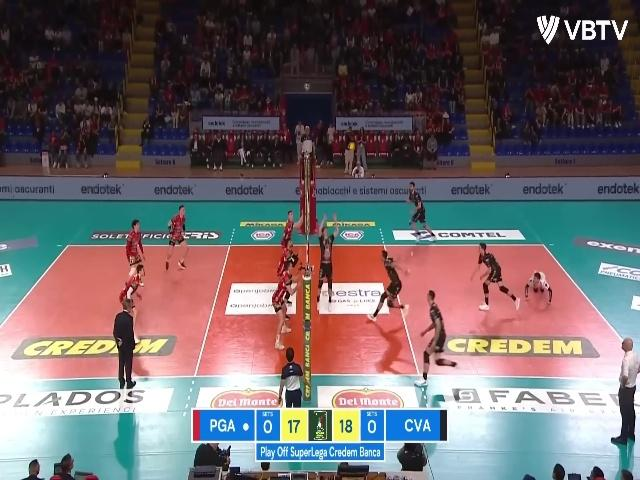volleyball court: (1, 241, 634, 380)
